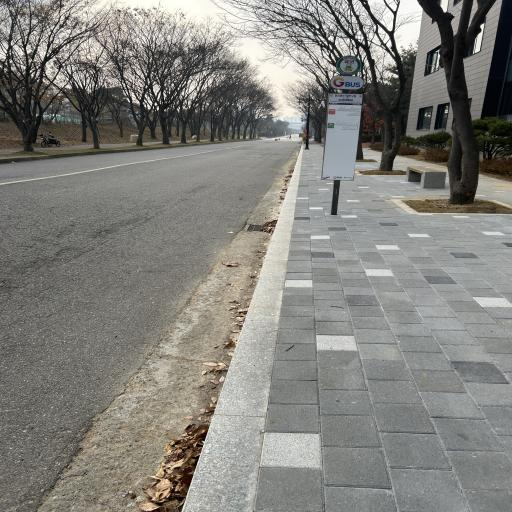debris: (263, 219, 273, 233)
drain: (245, 219, 277, 235)
